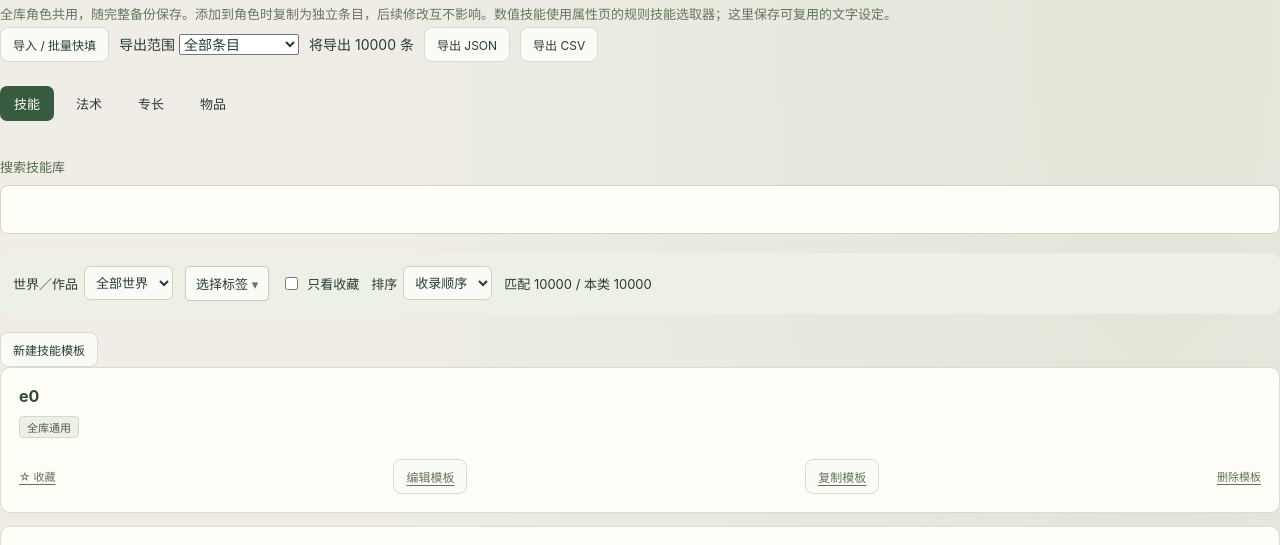
Scenario: 资料库容量校验未通过时保留草稿，不向应用提交非法条目库
Click the button "新建技能模板".
click(49, 349)  # box x1=0 y1=332 x2=98 y2=367
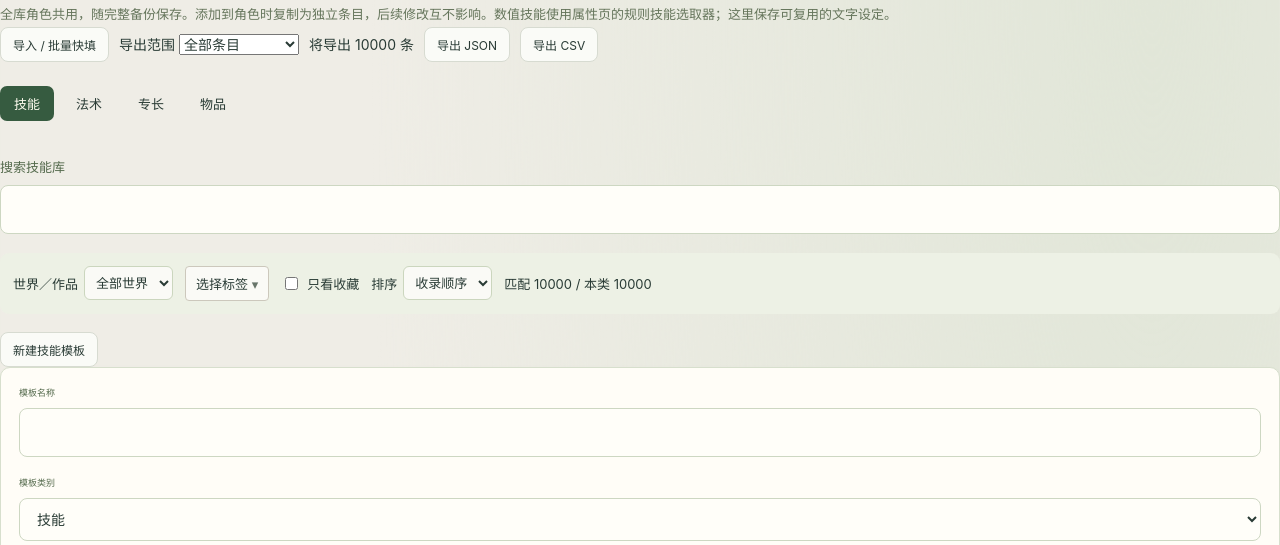
Type "超出容量的模板" into the field labelled "模板名称".
click(640, 432); type("超出容量的模板")  # box x1=19 y1=408 x2=1261 y2=457
(page scrolled)
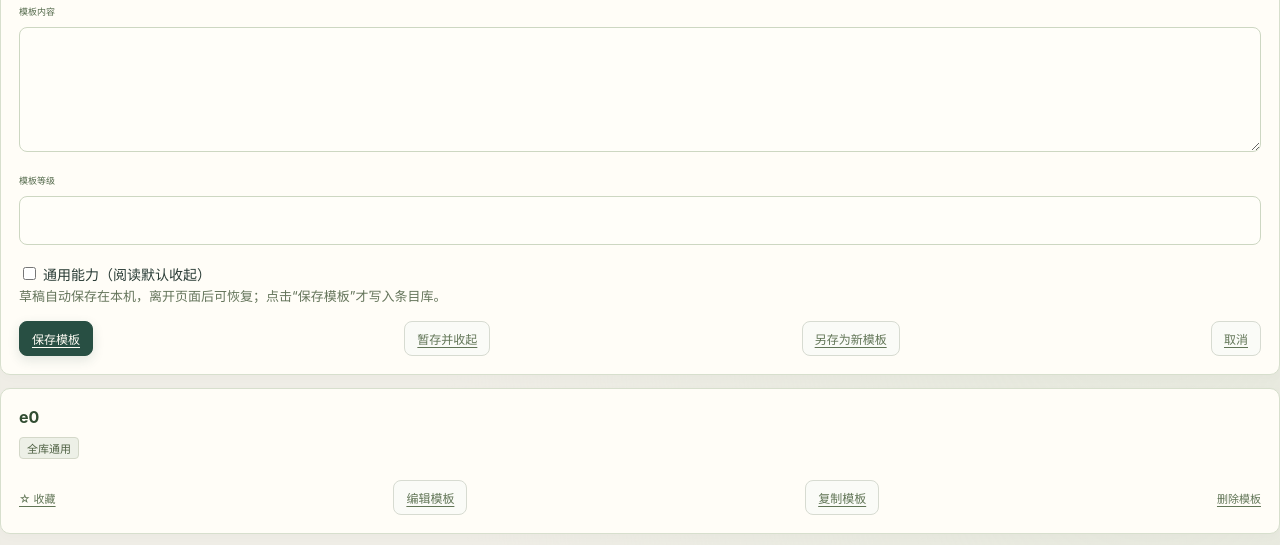
Click the button "保存模板".
click(56, 339)  # box x1=19 y1=321 x2=93 y2=356
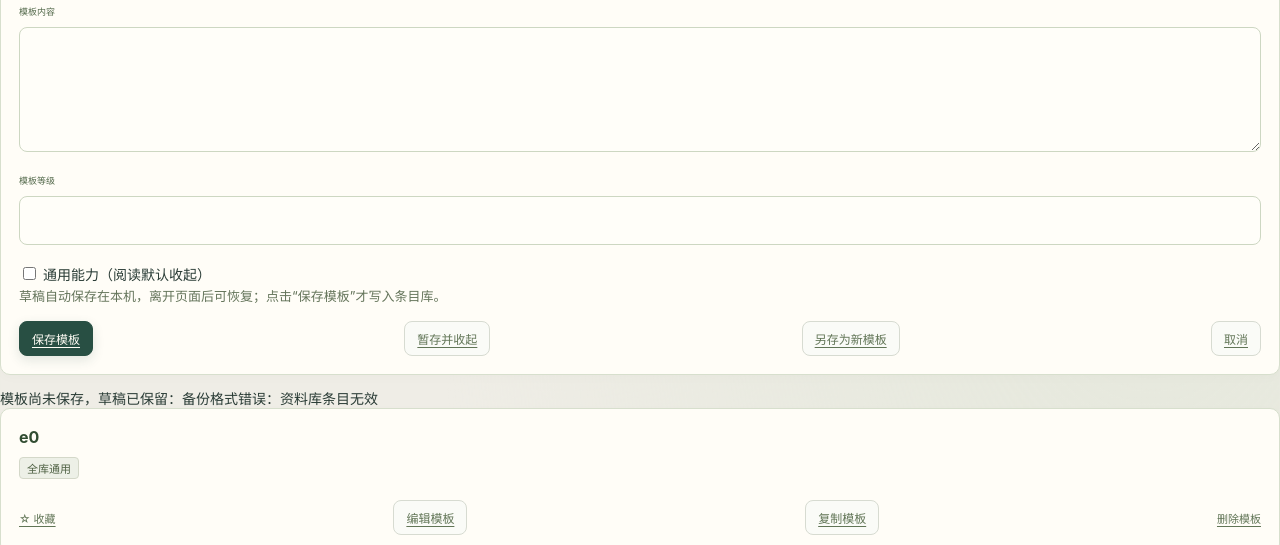
Expected: the text "模板尚未保存，草稿已保留：备份格式错误：资料库条目无效" is shown, x1=0 y1=390 x2=378 y2=407
